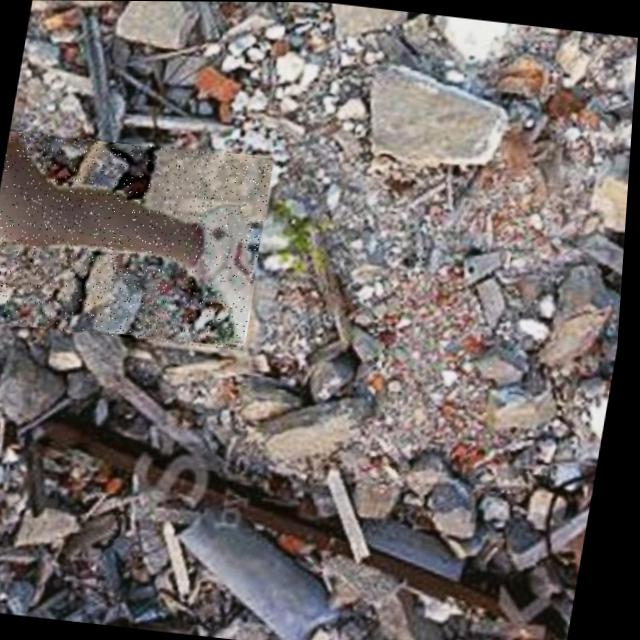Person in Rubble: (0, 127, 278, 349)
